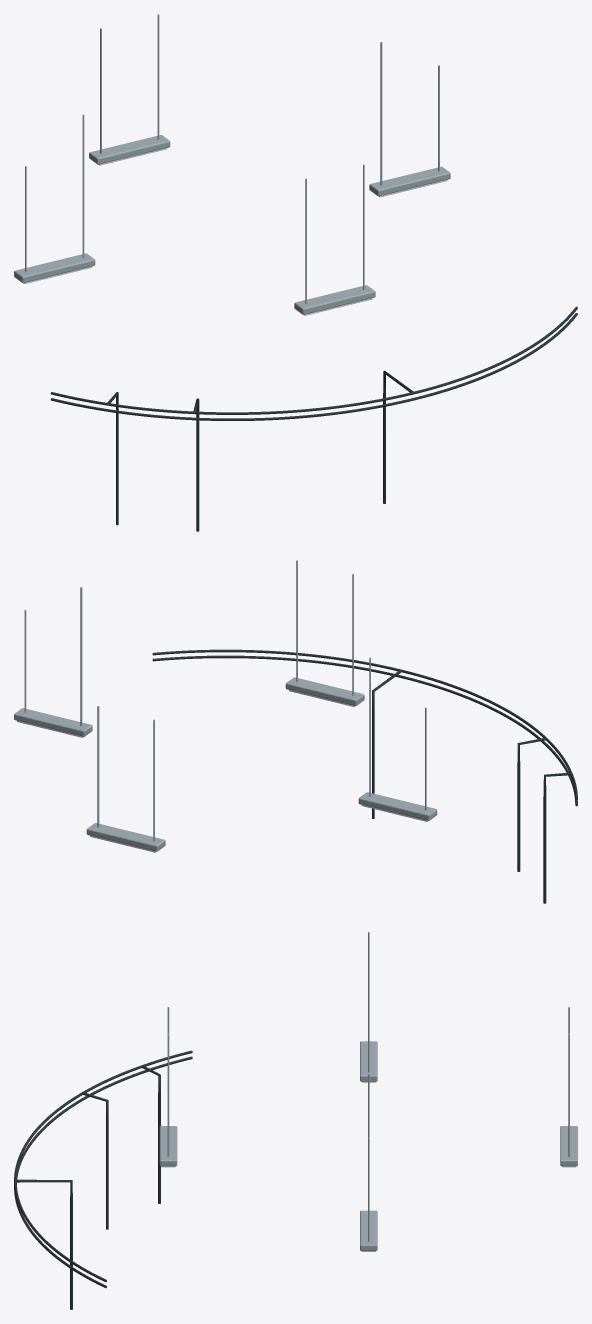
The model's file is SC_C02_OverheadServices.fbx.
3 views of the same model, one above another, from view 1: azimuth 30°, elevation 25°; view 2: azimuth 150°, elevation 25°; view 3: azimuth 270°, elevation 25° (orthographic). The views are drawn at different scales.
Visible parts, largest first — view 1: SC_C02_OverheadServices; view 2: SC_C02_OverheadServices; view 3: SC_C02_OverheadServices.
Boxes of the visible parts, x1=… form: SC_C02_OverheadServices: x1=14, y1=14, x2=577, y2=531; SC_C02_OverheadServices: x1=14, y1=560, x2=577, y2=903; SC_C02_OverheadServices: x1=14, y1=932, x2=577, y2=1309.
Size of the model in its own units: 997 by 613 by 1024.
